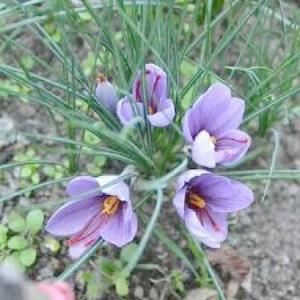Saffron: (44, 174, 140, 256), (173, 172, 255, 254), (182, 85, 252, 168), (116, 62, 175, 128)
